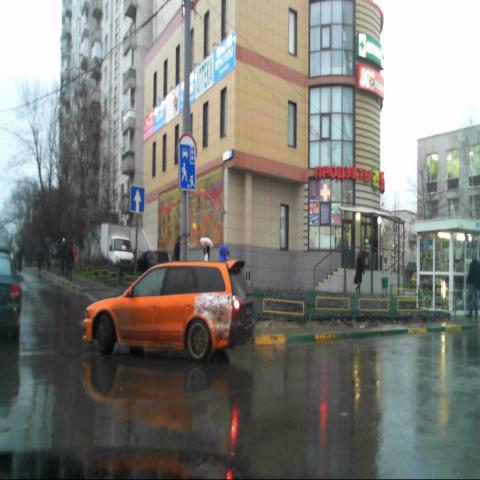5_5: (130, 187, 144, 212)
